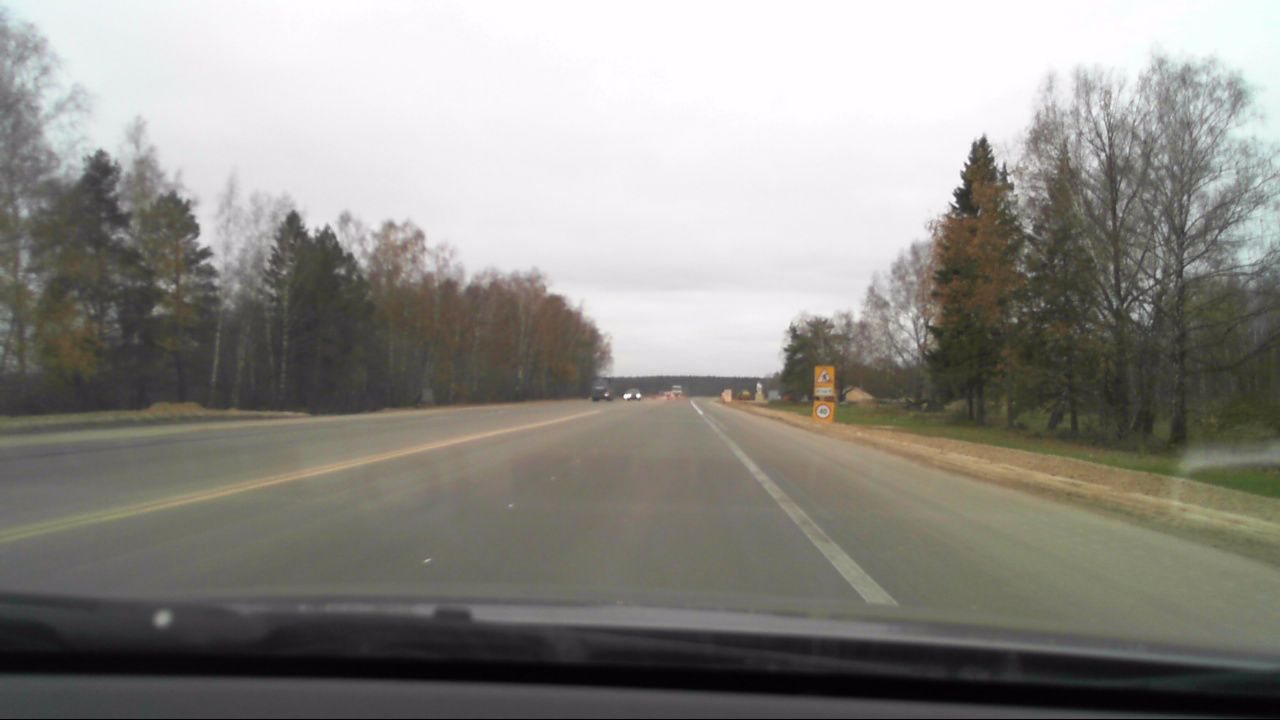speed_warning_40: (812, 400, 833, 420)
